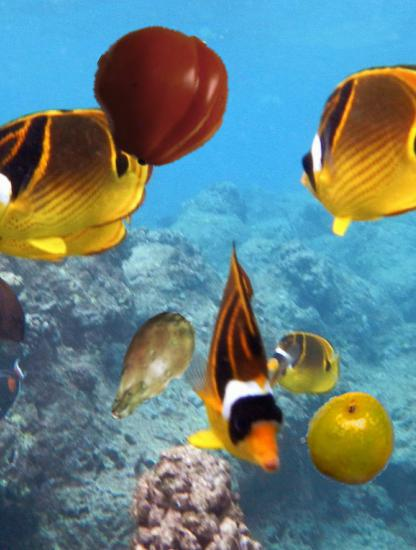Cactus: (88, 306, 211, 429)
Maracuja: (302, 394, 397, 489)
Tomato: (89, 26, 229, 166)
